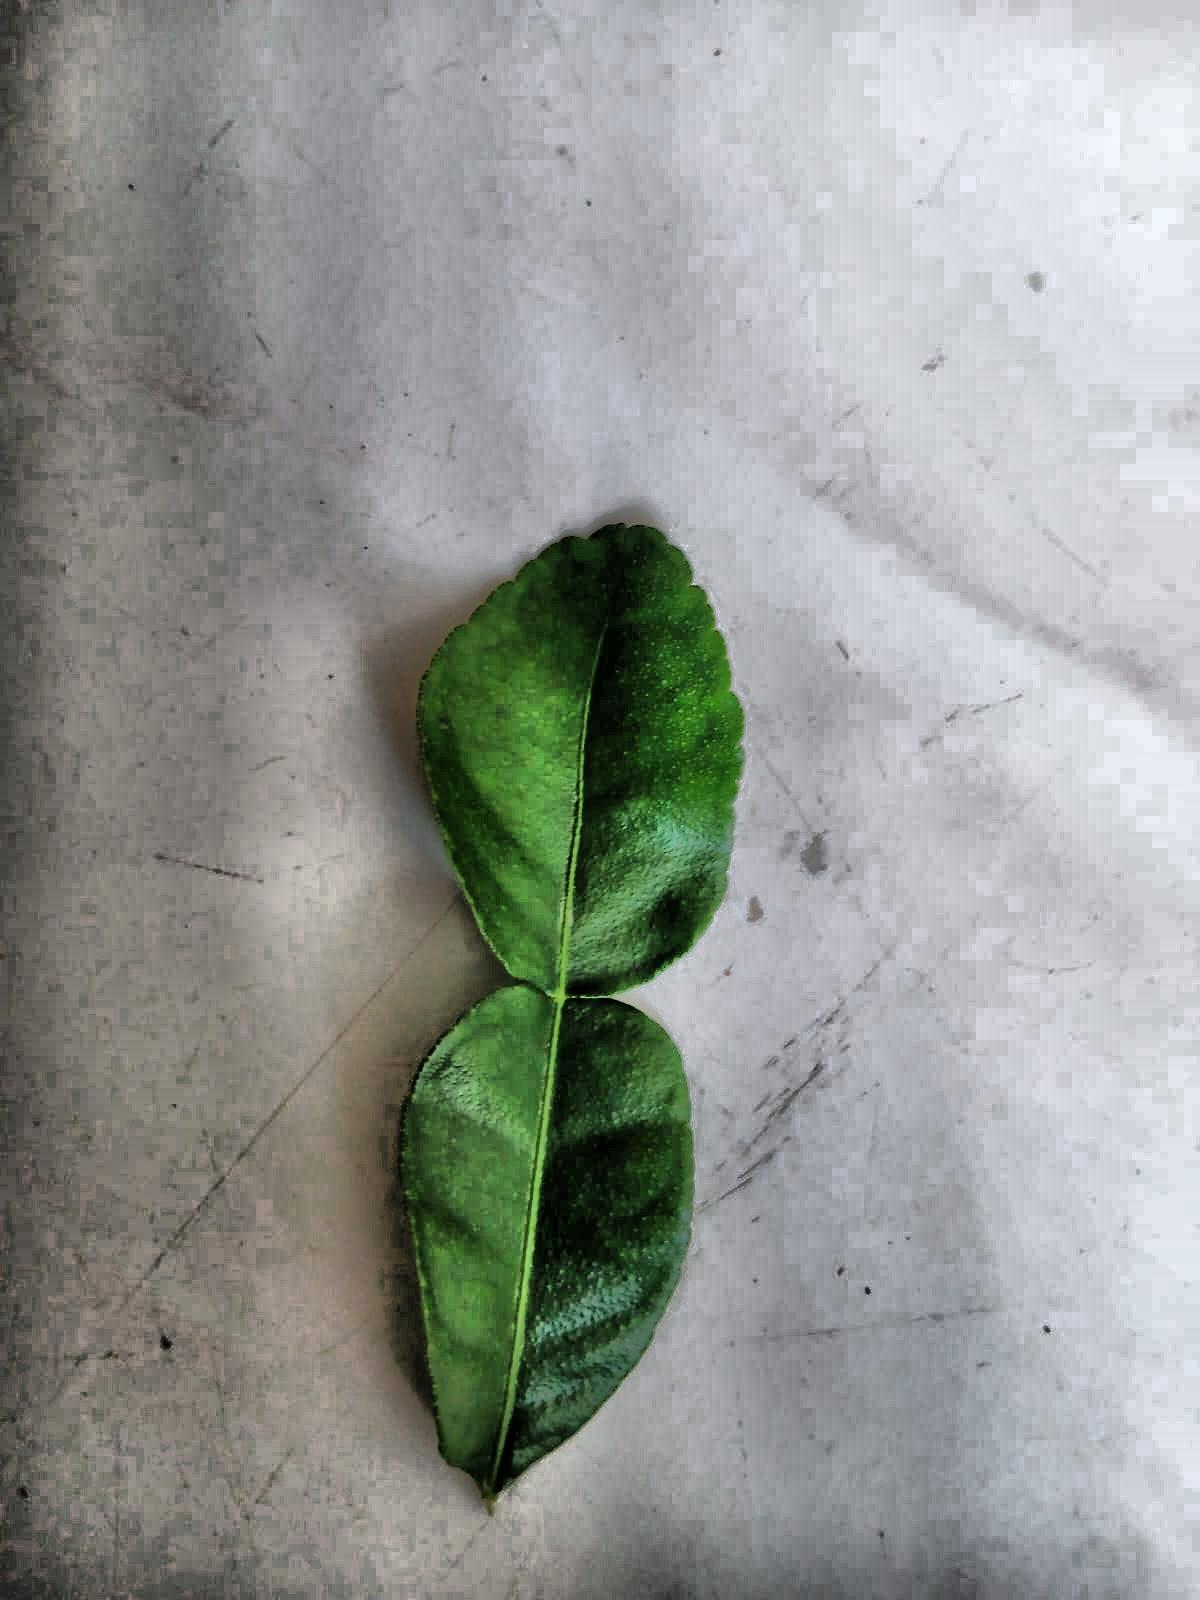daun jeruk: (400, 524, 742, 1500), (417, 524, 742, 997)
